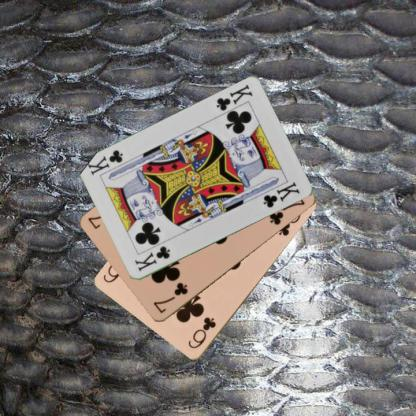6c: (185, 314, 218, 351)
7c: (150, 280, 190, 315)
Kc: (213, 82, 254, 113), (132, 243, 172, 273)
